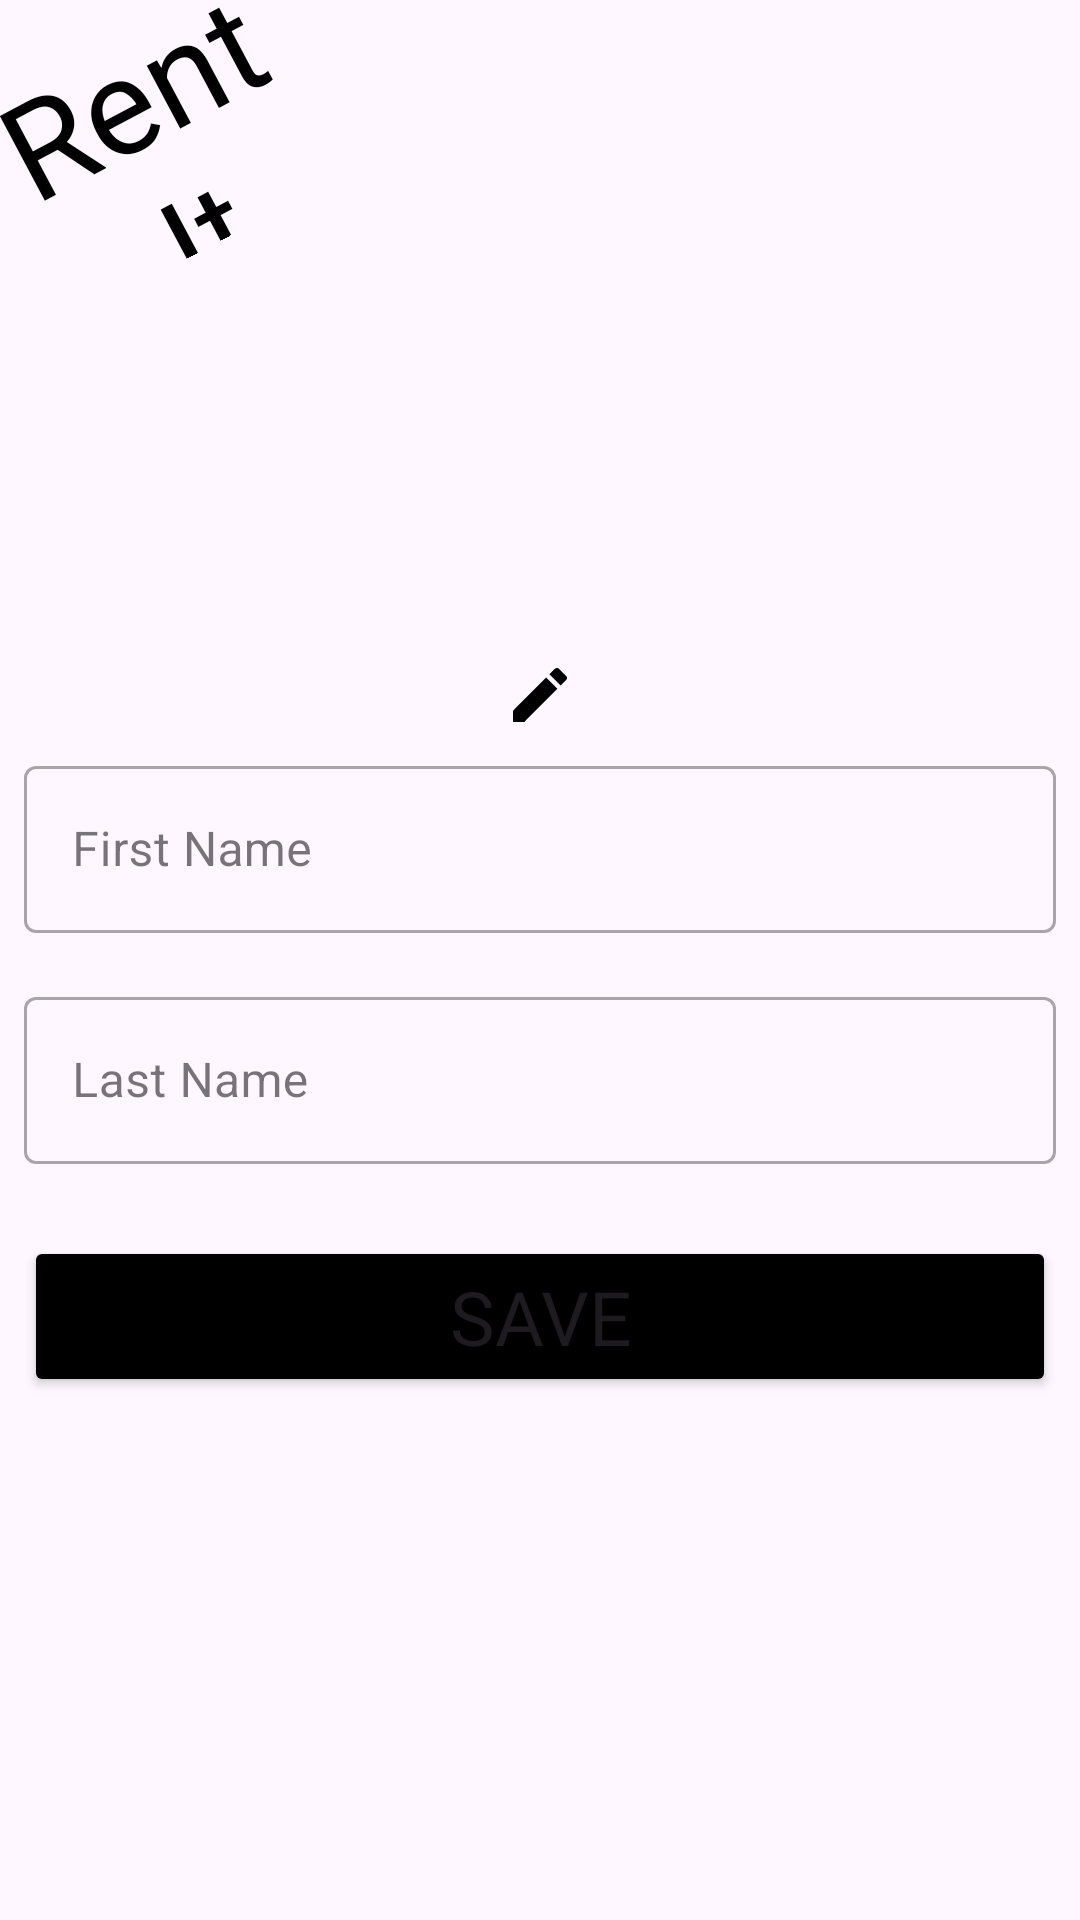

Locate icon controls on the screen. Image size 1080px×1920px, boxes as (x1, y1, x2, y2).
edit: (513, 668, 567, 722)
